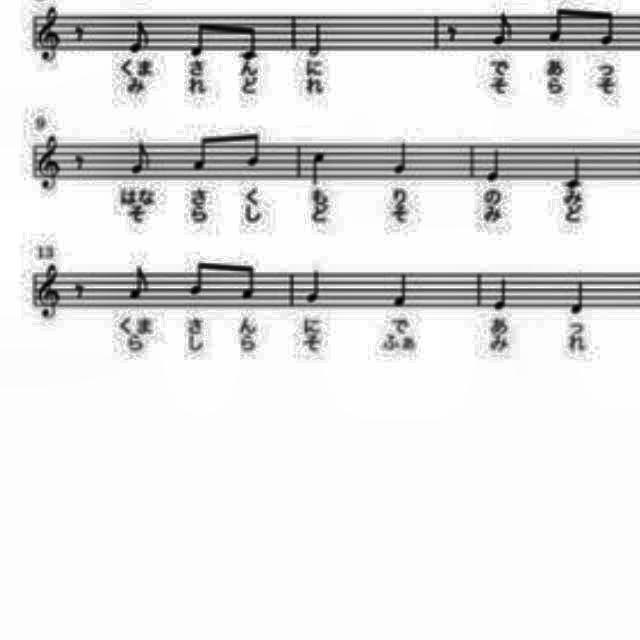Eighth-note: (186, 12, 220, 64), (182, 257, 216, 299), (234, 258, 262, 306), (187, 132, 215, 180), (126, 262, 154, 306), (542, 3, 570, 47), (489, 8, 518, 48), (240, 126, 264, 174), (236, 18, 262, 62), (593, 4, 619, 48), (127, 138, 157, 176), (128, 14, 156, 54)
Eighth-rest: (442, 19, 464, 45), (70, 19, 88, 49), (70, 280, 90, 304), (68, 150, 88, 173)
Half-note: (304, 22, 332, 62)
Quarter-note: (387, 266, 417, 314), (483, 142, 511, 188), (564, 275, 592, 321), (301, 266, 333, 306), (558, 149, 586, 193), (492, 272, 516, 316), (391, 136, 414, 180), (309, 150, 327, 190)
Treble-clef: (36, 2, 68, 66), (36, 262, 68, 322), (34, 134, 66, 193)
